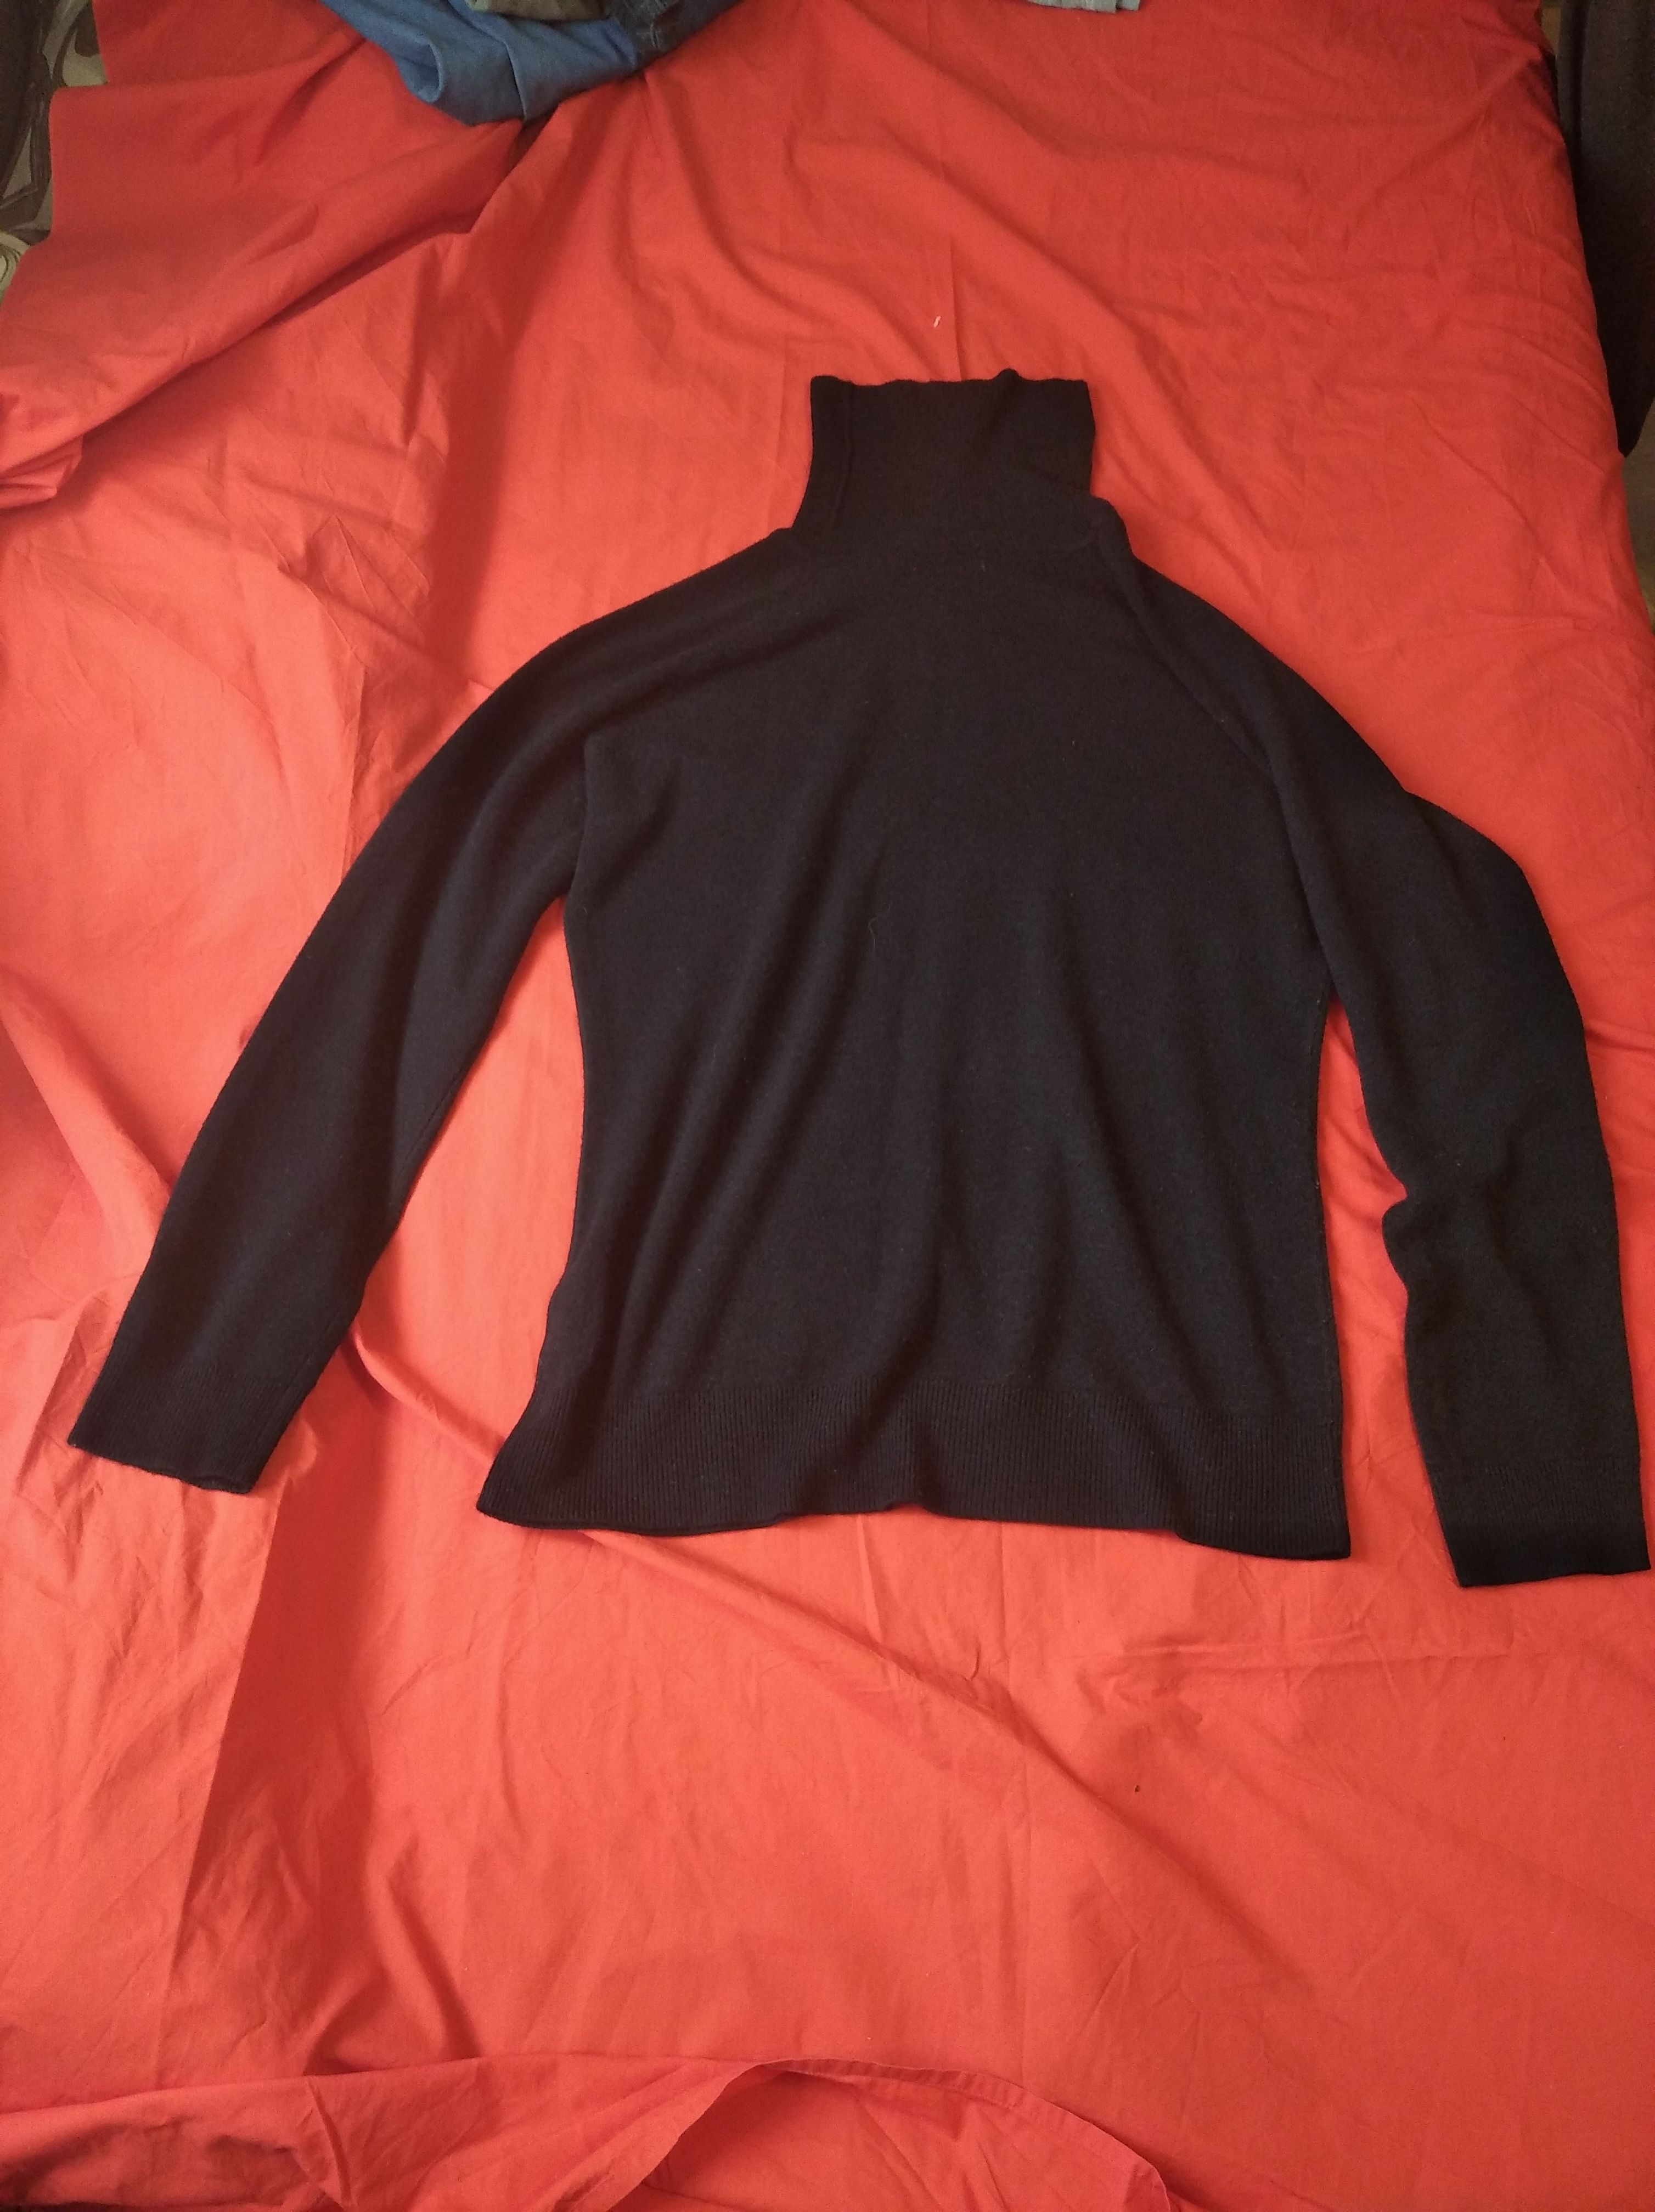clothes: (38, 342, 1646, 1597)
